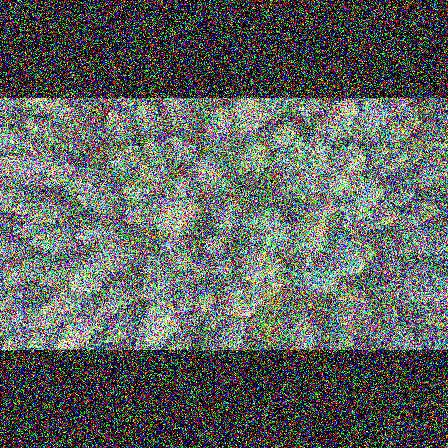Sick: (4, 305, 30, 336), (154, 235, 184, 259), (374, 256, 404, 276), (13, 216, 36, 240), (156, 192, 177, 215)
